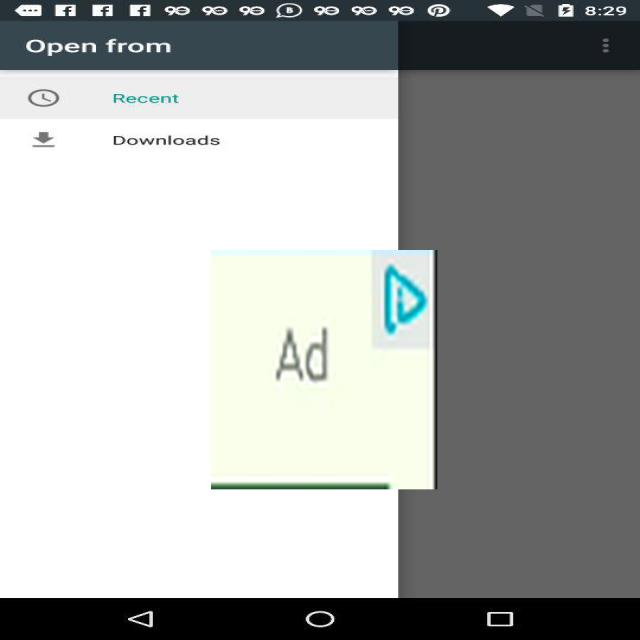sneaking: (211, 250, 437, 489)
